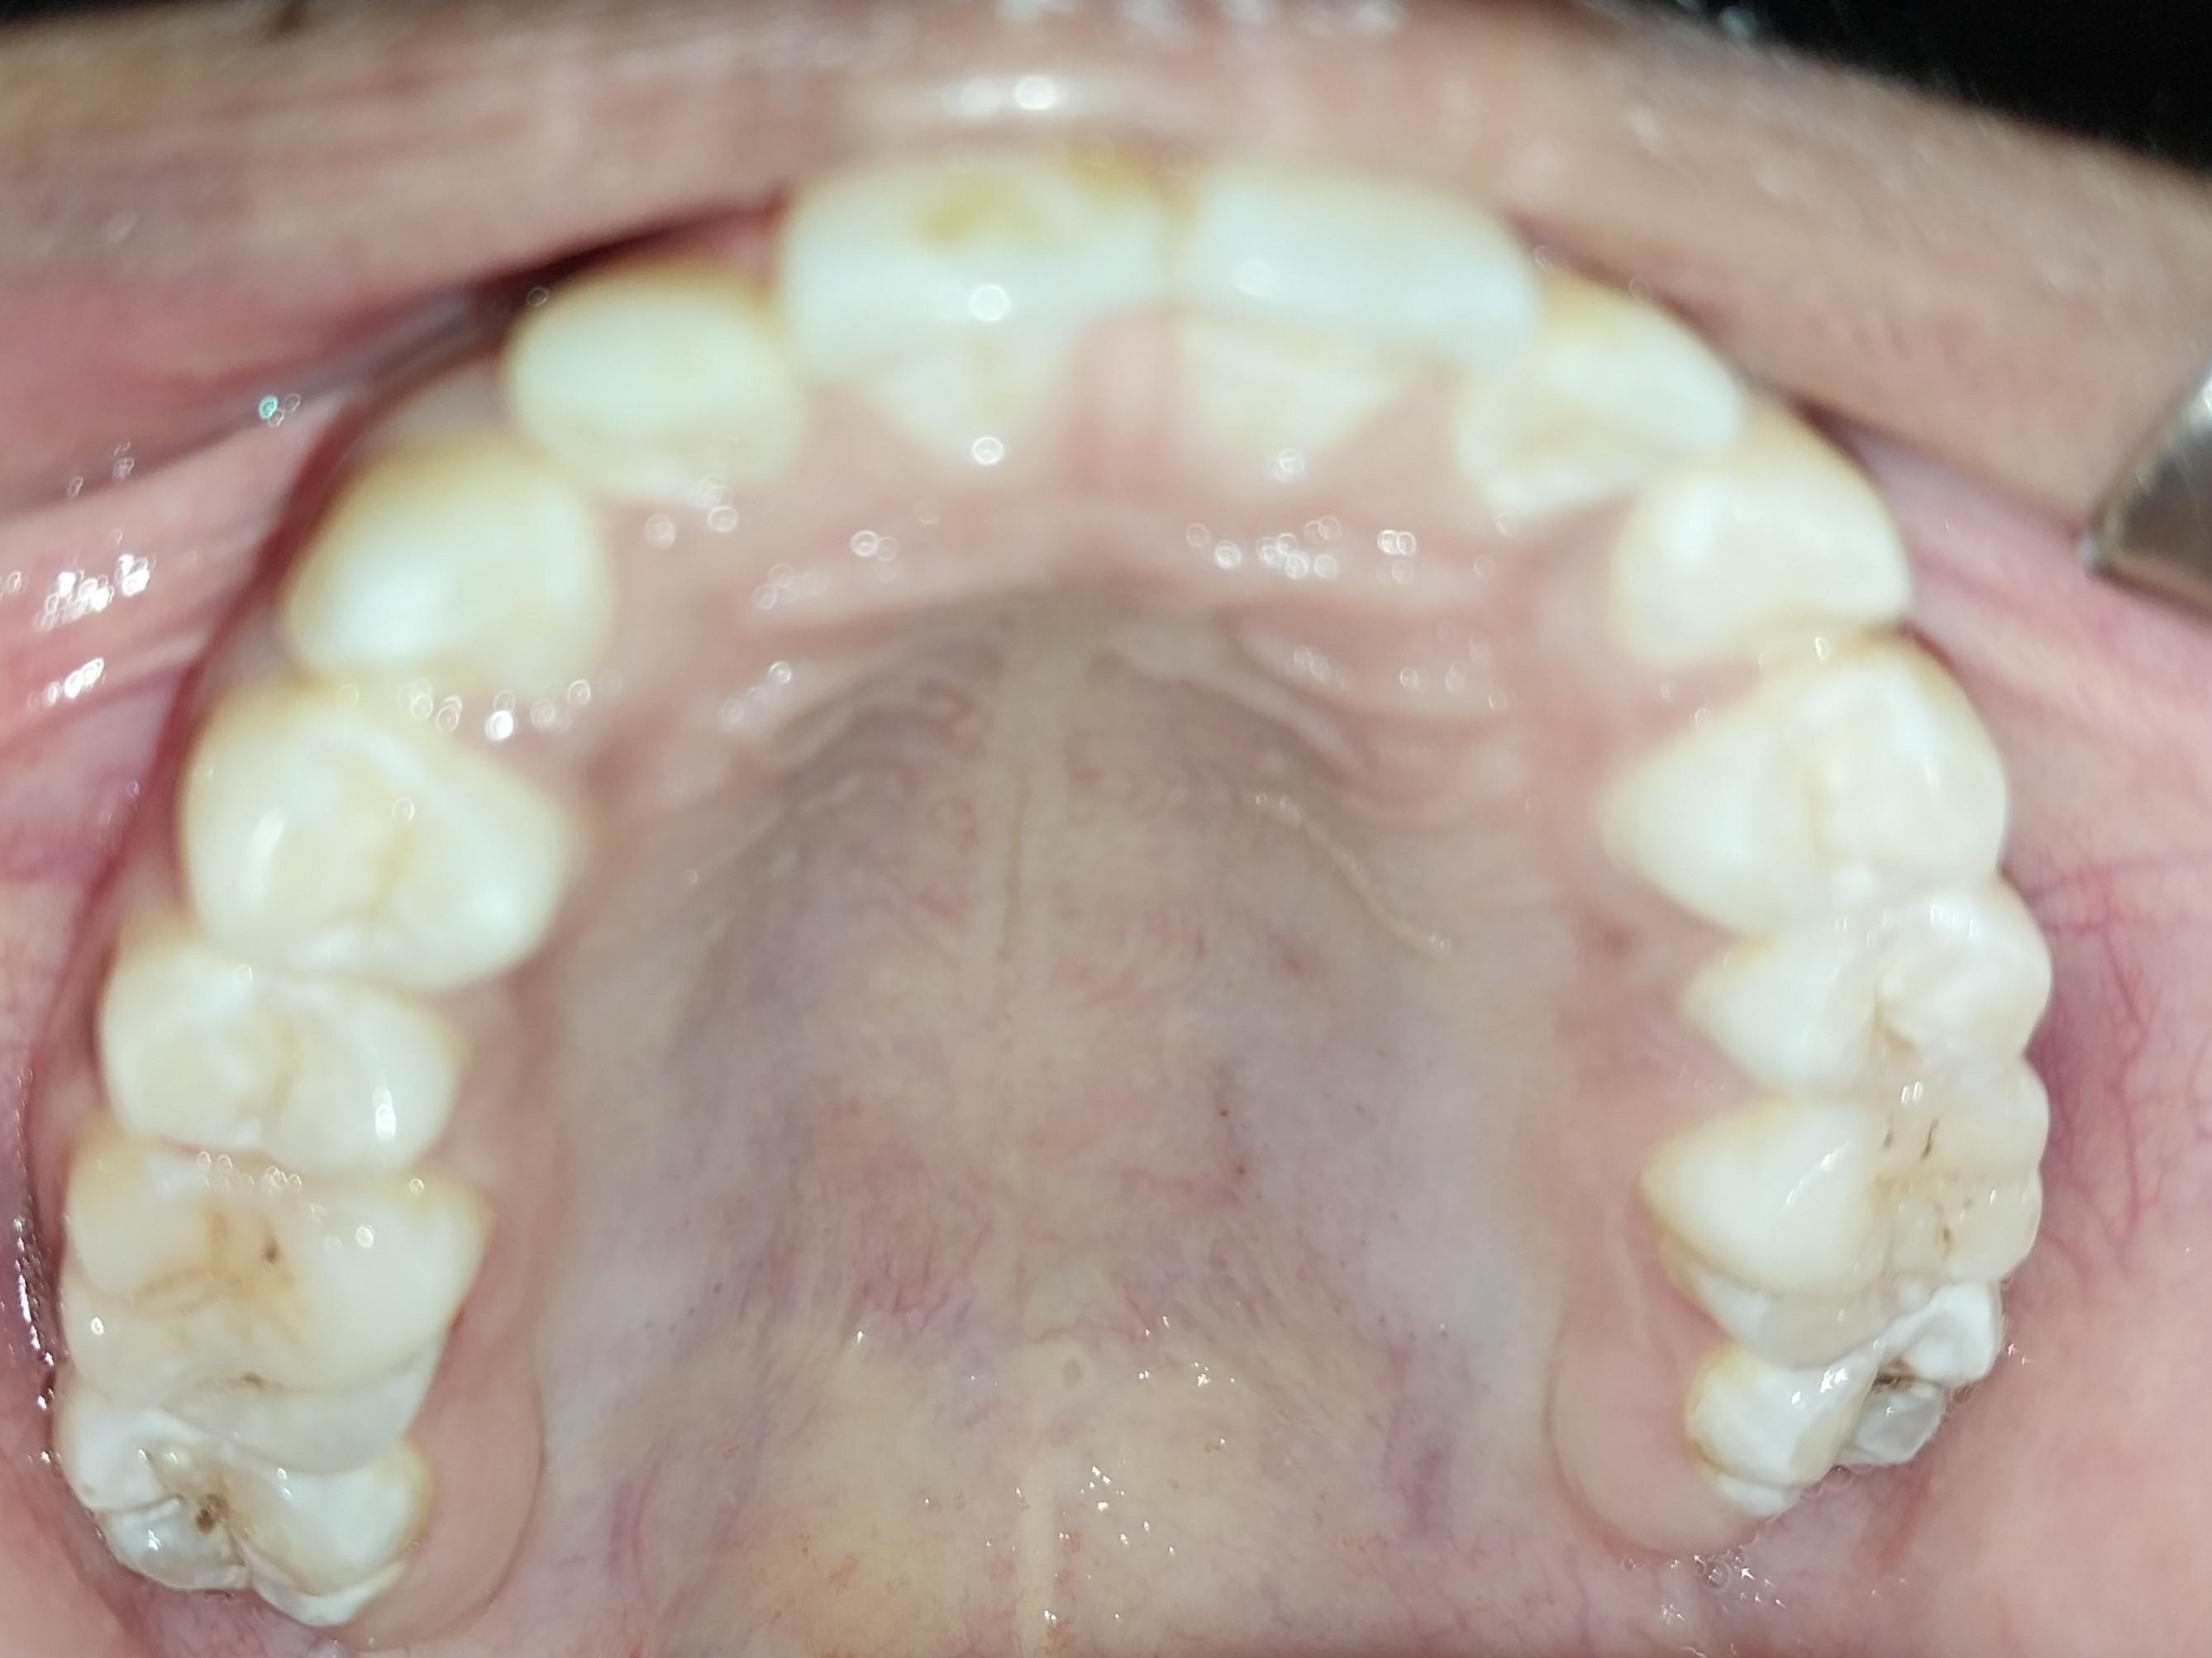D: (41, 1151, 493, 1473), (33, 1374, 434, 1638), (1684, 1279, 2011, 1527)
